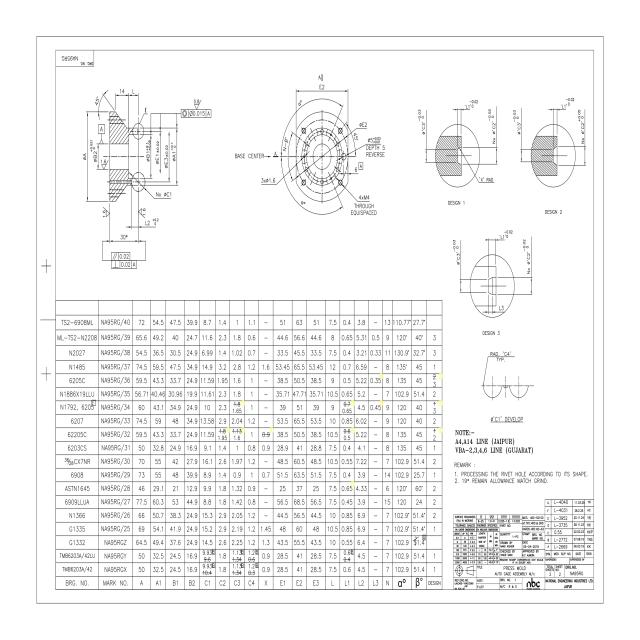dimension: (350, 194, 378, 216), (366, 136, 385, 158), (490, 350, 512, 367), (487, 107, 496, 145), (522, 238, 531, 275), (180, 108, 212, 118), (489, 414, 524, 423), (577, 108, 585, 146), (96, 125, 105, 158), (417, 108, 426, 136), (512, 108, 521, 136), (452, 239, 461, 267), (89, 139, 98, 163), (112, 260, 136, 269), (560, 97, 576, 109), (91, 94, 101, 112), (499, 229, 514, 240), (112, 252, 130, 261), (464, 99, 480, 109), (145, 137, 151, 163), (154, 140, 160, 166), (163, 144, 169, 170), (156, 190, 171, 199), (282, 135, 289, 153), (145, 218, 160, 226), (480, 176, 496, 183), (354, 162, 363, 174), (171, 142, 176, 163), (261, 177, 276, 184), (193, 98, 202, 109), (102, 206, 110, 218), (138, 207, 146, 219), (101, 158, 108, 170), (118, 86, 126, 95), (119, 232, 128, 240), (352, 132, 359, 141), (498, 304, 505, 312), (131, 87, 137, 95), (318, 84, 326, 90), (297, 99, 303, 107), (360, 122, 368, 128), (83, 152, 87, 162), (300, 200, 306, 206)
